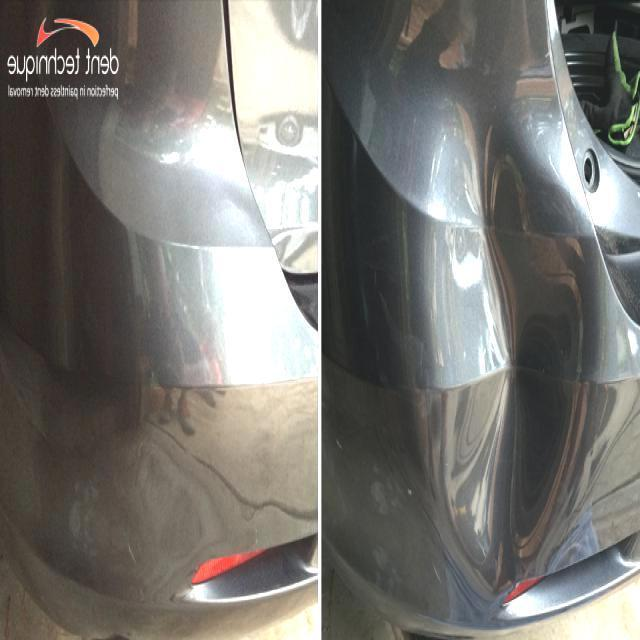minor: (401, 68, 606, 596)
